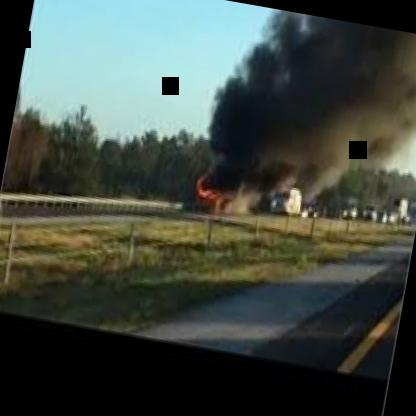fire: (180, 35, 370, 237)
